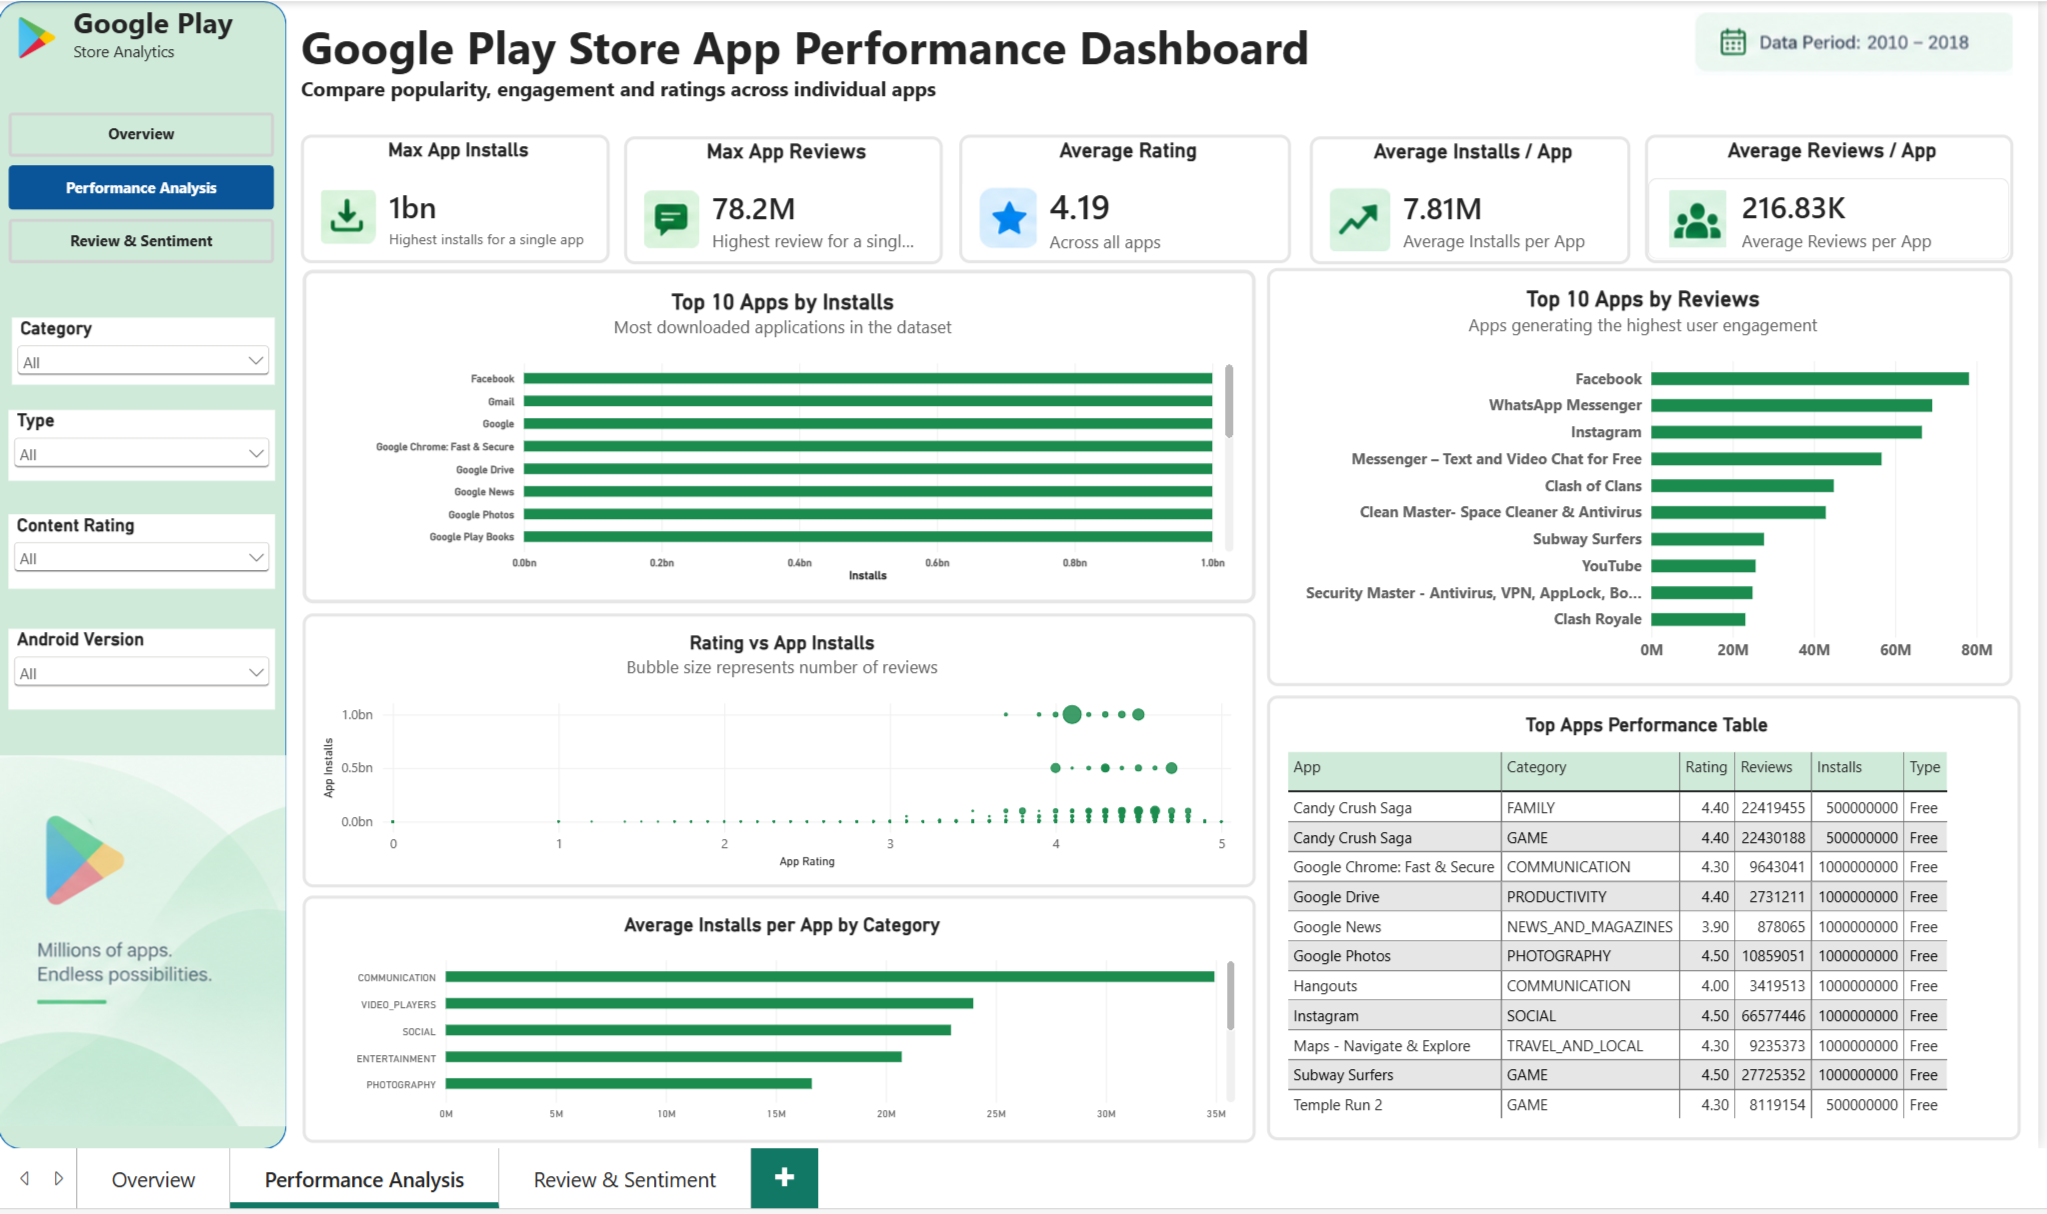

This screenshot's page, from the dashboard's own definition file:
{"tool":"powerbi","page":{"name":"Performance Analysis","canvas":[1920,1080],"ordinal":1},"visuals":[{"type":"shape","box":[0,0,271.4,1080.7],"z":0},{"type":"image","box":[12.7,12.7,47.6,42.8],"z":1000},{"type":"textbox","box":[71.4,1.6,174.6,66.6],"z":2000},{"type":"textbox","box":[285.1,12.6,994.4,92],"z":3000},{"type":"cardVisual","title":"Max App Installs","fields":{"Data":["DimApp.Max App Installs"]},"box":[285.1,126.3,290.6,120.9],"z":4000},{"type":"cardVisual","title":"Average Reviews / App","fields":{"Data":["DimApp.Average Reviews per App"]},"box":[1550.2,126.3,346.5,120.9],"z":5000},{"type":"cardVisual","title":"Average Installs / App","fields":{"Data":["DimApp.Average Installs per App"]},"box":[1234.6,127,301.5,120.6],"z":6000},{"type":"cardVisual","title":"Max App Reviews","fields":{"Data":["DimApp.App Reviews"]},"box":[588.7,127,299.9,120.6],"z":7000},{"type":"cardVisual","title":"Average Rating","fields":{"Data":["Google_Play_Store_Apps.Average Rating"]},"box":[904.1,126.3,312.2,120.9],"z":8000},{"type":"clusteredBarChart","title":"Top 10 Apps by Installs","fields":{"Category":["DimApp.App"],"Y":["DimApp.App Installs"]},"box":[286.9,252.7,896.9,314],"z":9000},{"type":"barChart","title":"Top 10 Apps by Reviews","fields":{"Category":["DimApp.App"],"Y":["DimApp.App Reviews"]},"box":[1194.7,250.8,702,393.4],"z":10000},{"type":"image","box":[0,691.2,270.7,388],"z":11000},{"type":"slicer","fields":{"Values":["Google_Play_Store_Apps.Category"]},"box":[12.6,297.8,247.2,63.2],"z":12000},{"type":"slicer","fields":{"Values":["Google_Play_Store_Apps.Type"]},"box":[9,384.4,250.8,66.8],"z":13000},{"type":"slicer","fields":{"Values":["Google_Play_Store_Apps.Content_Rating"]},"box":[9,483.7,250.8,70.4],"z":14000},{"type":"slicer","fields":{"Values":["Google_Play_Store_Apps.Android_Ver"]},"box":[9,590.1,250.8,75.8],"z":15000},{"type":"image","box":[1597.1,0,299.6,81.2],"z":16000},{"type":"scatterChart","title":"Rating vs App Installs","fields":{"Category":["DimApp.App"],"Size":["DimApp.App Reviews"],"X":["DimApp.App Rating"],"Y":["DimApp.App Installs"]},"box":[286.9,575.7,896.9,258.1],"z":17000},{"type":"barChart","title":"Average Installs per App by Category","fields":{"Category":["Google_Play_Store_Apps.Category"],"Y":["DimApp.Average Installs per App"]},"box":[286.9,841,896.9,232.8],"z":18000},{"type":"tableEx","title":"Top Apps Performance Table","fields":{"Values":["Google_Play_Store_Apps.App","Google_Play_Store_Apps.Category","DimApp.App Rating","DimApp.App Reviews","DimApp.Max App Installs","Google_Play_Store_Apps.Type"]},"box":[1194.7,653.3,709.2,418.7],"z":19000},{"type":"pageNavigator","box":[9,104.7,250.8,142.6],"z":19001}]}

Visuals, with their boxes on the page's 1920x1080 design canvas (x1, y1, x2, y2). These are canvas units, not pixel positions in the 2047x1214 screenshot, which may show the page scaled, cropped or inside an application window:
shape: 0, 0, 271, 1081
image: 13, 13, 60, 56
textbox: 71, 2, 246, 68
textbox: 285, 13, 1280, 105
"Max App Installs" cardVisual: 285, 126, 576, 247
"Average Reviews / App" cardVisual: 1550, 126, 1897, 247
"Average Installs / App" cardVisual: 1235, 127, 1536, 248
"Max App Reviews" cardVisual: 589, 127, 889, 248
"Average Rating" cardVisual: 904, 126, 1216, 247
"Top 10 Apps by Installs" clusteredBarChart: 287, 253, 1184, 567
"Top 10 Apps by Reviews" barChart: 1195, 251, 1897, 644
image: 0, 691, 271, 1079
slicer - Google_Play_Store_Apps.Category: 13, 298, 260, 361
slicer - Google_Play_Store_Apps.Type: 9, 384, 260, 451
slicer - Google_Play_Store_Apps.Content_Rating: 9, 484, 260, 554
slicer - Google_Play_Store_Apps.Android_Ver: 9, 590, 260, 666
image: 1597, 0, 1897, 81
"Rating vs App Installs" scatterChart: 287, 576, 1184, 834
"Average Installs per App by Category" barChart: 287, 841, 1184, 1074
"Top Apps Performance Table" tableEx: 1195, 653, 1904, 1072
pageNavigator: 9, 105, 260, 247
